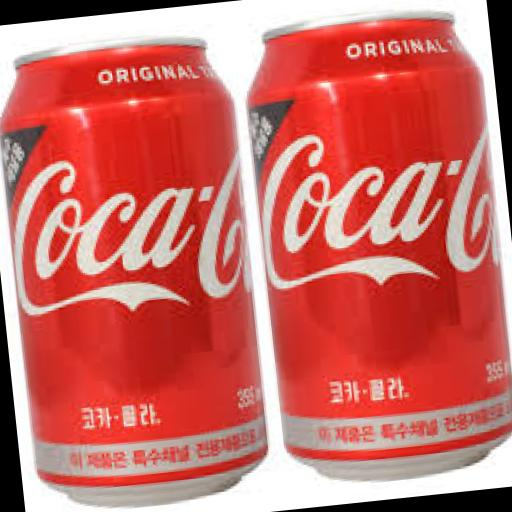Coca: (0, 23, 282, 512), (233, 0, 512, 494)
